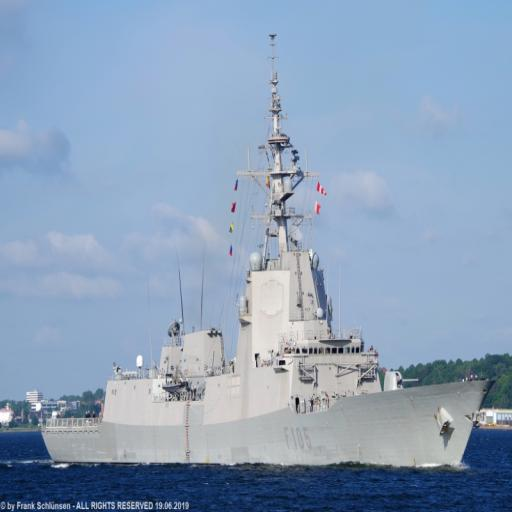Fragata: (31, 24, 502, 475)
